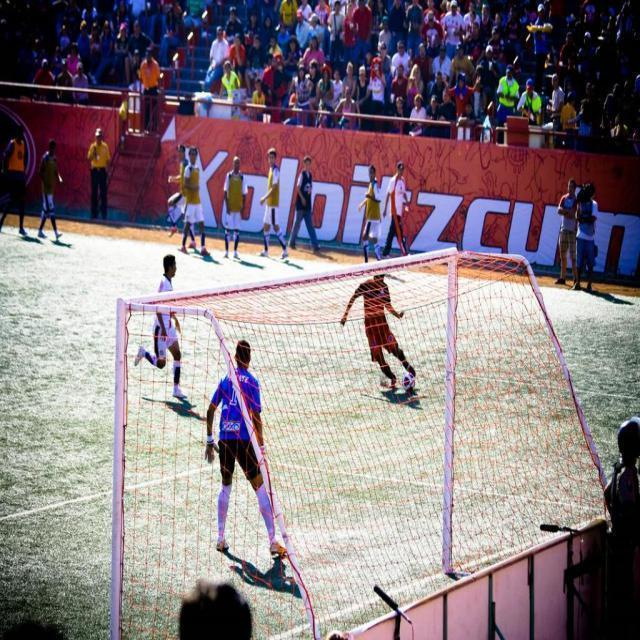ball: (401, 372, 414, 391)
